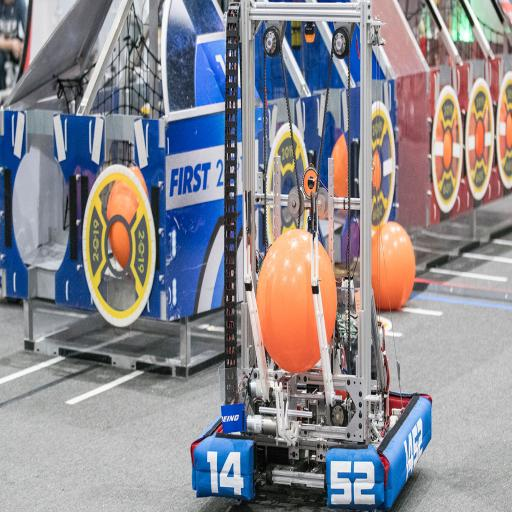robot: (190, 1, 433, 512)
